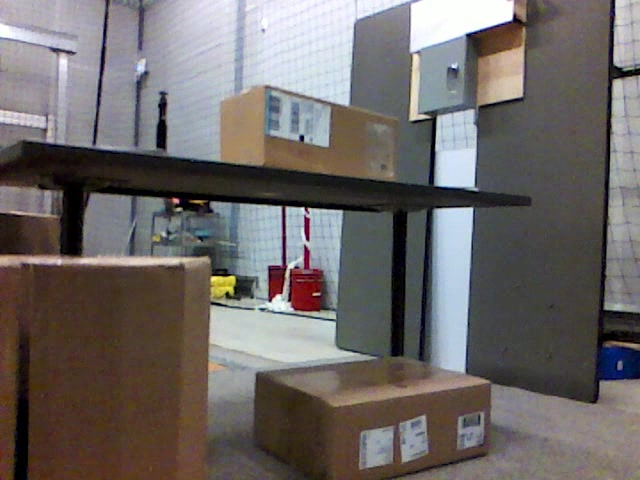box: (1, 255, 209, 480), (255, 356, 491, 480), (220, 87, 398, 179), (1, 210, 61, 254)
